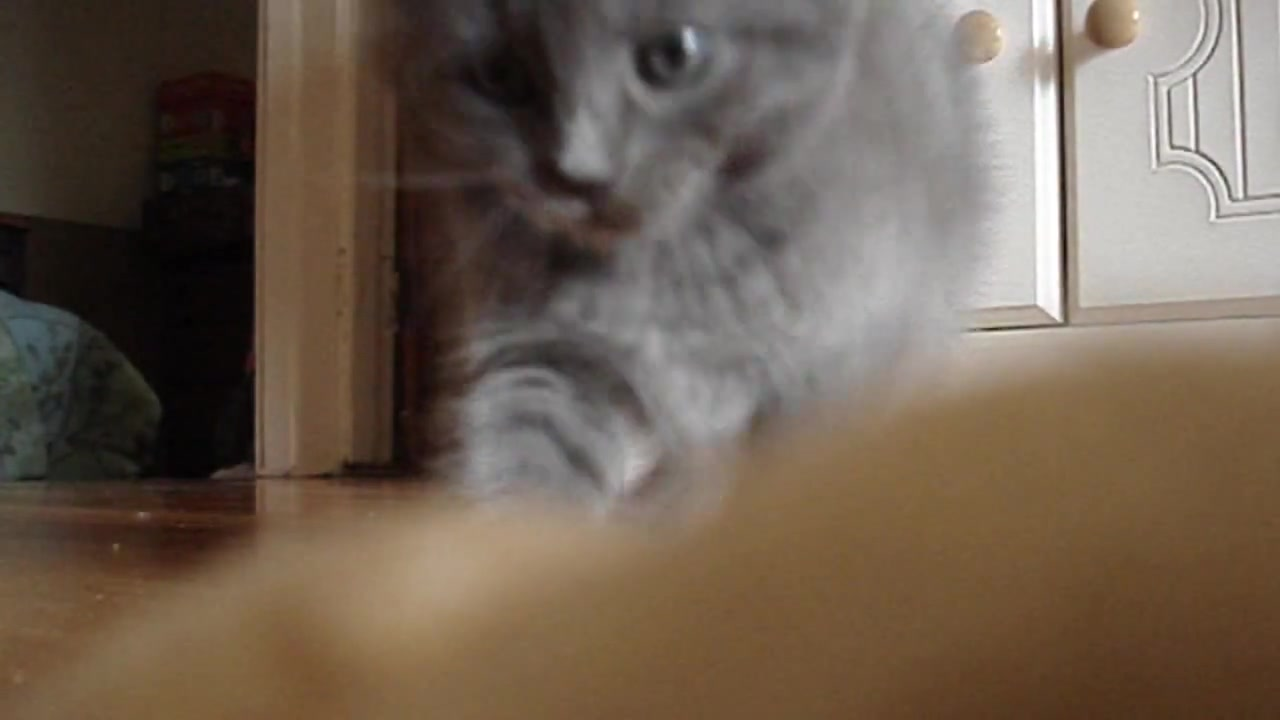cat: (381, 1, 1031, 507)
